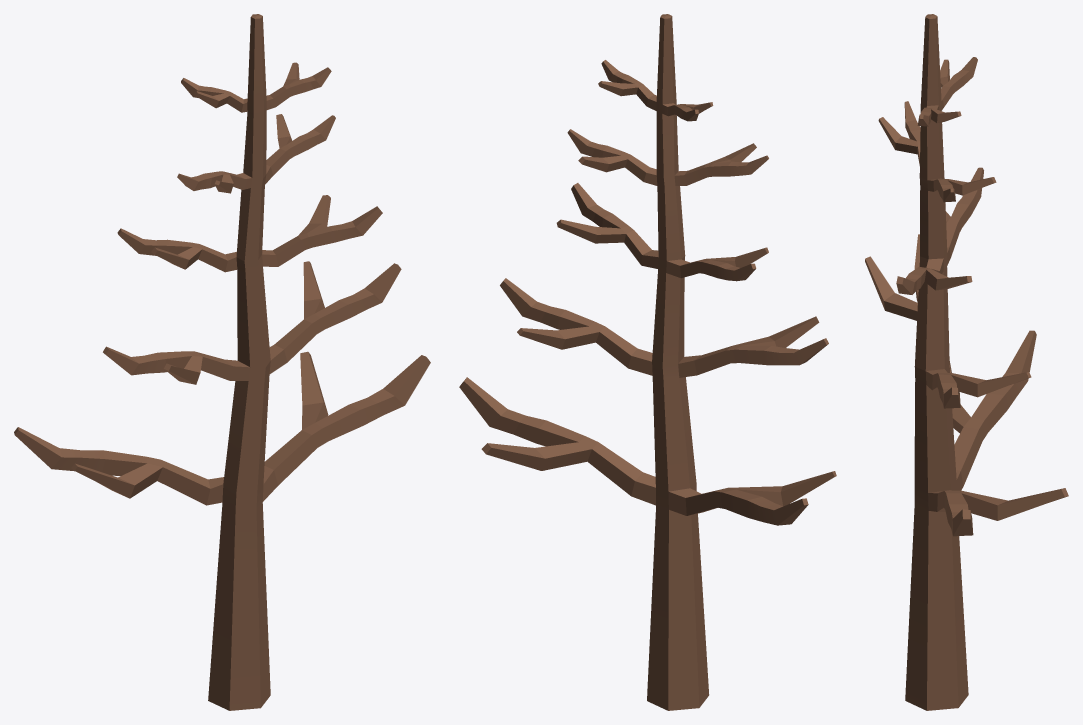
File: japan_tree_6.fbx
The picture shows the model from 3 angles, left to right: view 1: azimuth 30°, elevation 25°; view 2: azimuth 150°, elevation 25°; view 3: azimuth 270°, elevation 25°; orthographic projection.
Parts seen in each view (by area): view 1: japan_tree_6; view 2: japan_tree_6; view 3: japan_tree_6.
Boxes of the visible parts, x1,y1,x2,y2 form: japan_tree_6: (14, 14, 430, 710); japan_tree_6: (459, 14, 836, 710); japan_tree_6: (865, 14, 1068, 710).
Size of the model in its own units: 473 by 805 by 216.
